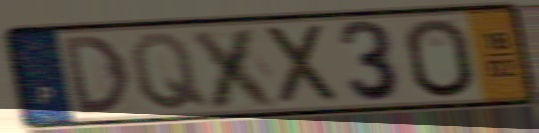3: (337, 17, 405, 105)
D: (58, 32, 133, 117)
O: (401, 16, 479, 101)
Q: (127, 30, 211, 113)
X: (186, 24, 285, 110), (262, 21, 345, 109)
